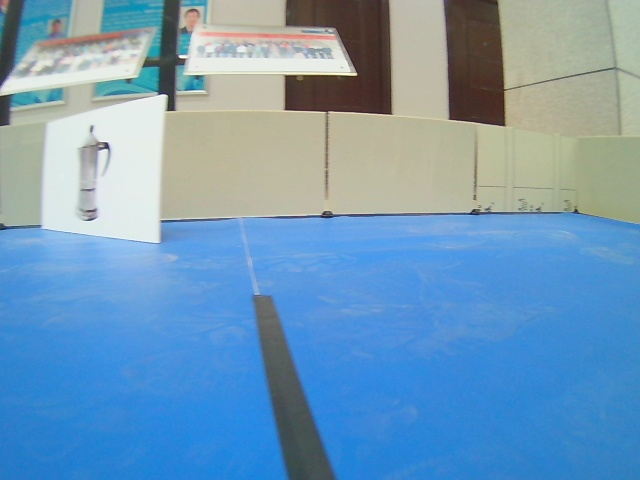dish: (39, 91, 164, 245)
